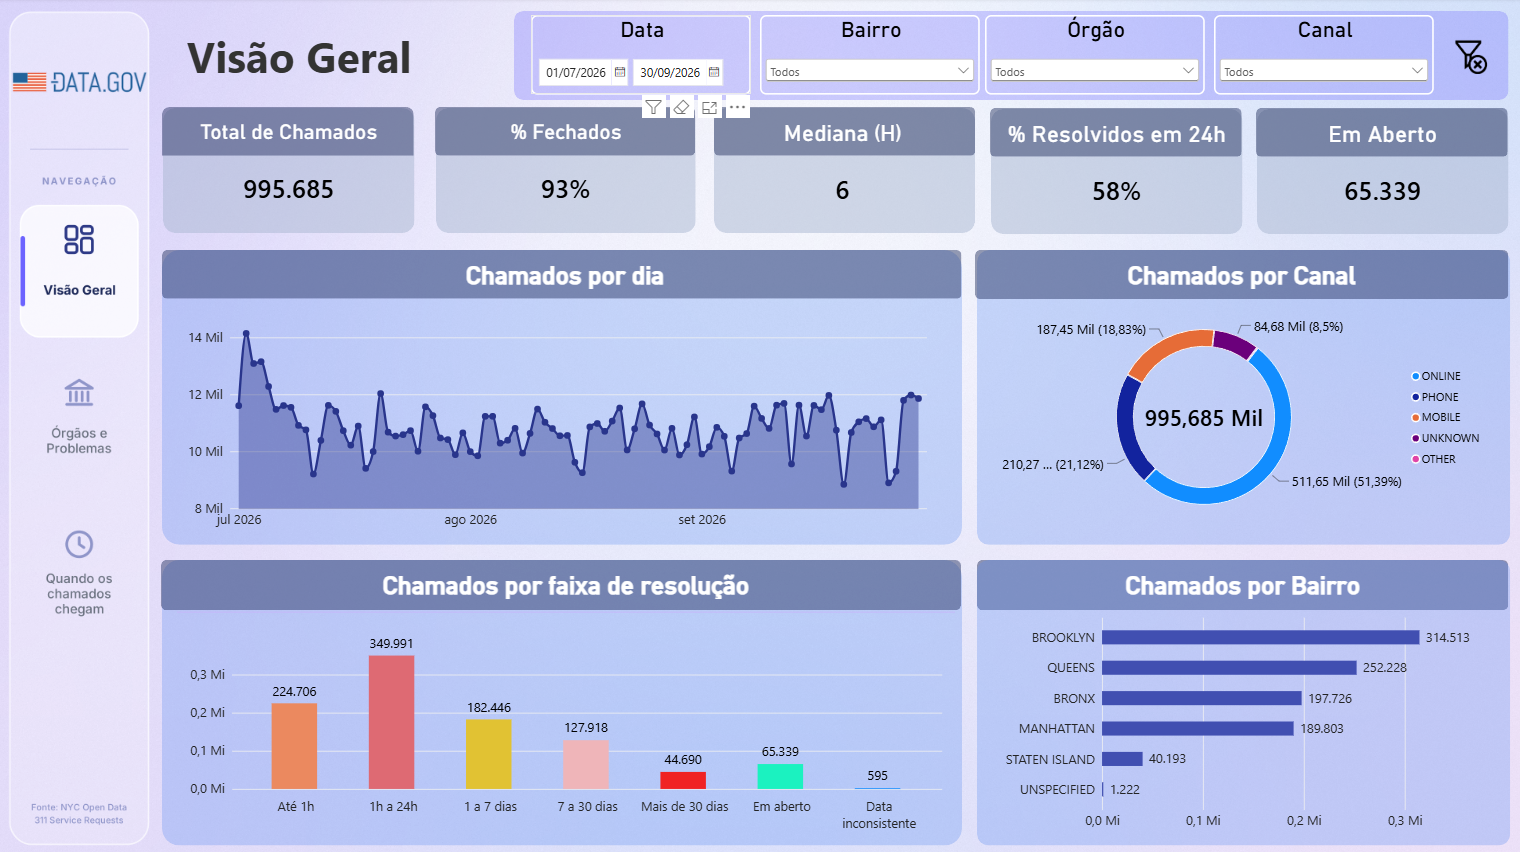

The dashboard page shown, as its layout file describes it:
{"tool":"powerbi","page":{"name":"Visão Geral","canvas":[1920,1080],"ordinal":0},"visuals":[{"type":"image","box":[0,0,1920,1079.5],"z":0},{"type":"shape","box":[552.4,137.7,326.4,157],"z":0,"group":"g3"},{"type":"shape","box":[901.4,137.7,327.9,157],"z":0,"group":"g5"},{"type":"shape","box":[208.8,137.9,316,157],"z":0,"group":"g1"},{"type":"shape","box":[1249.3,139.2,316,157],"z":0,"group":"g4"},{"type":"shape","box":[1583.6,139.2,316,157],"z":0,"group":"g2"},{"type":"shape","box":[650.1,15.8,1248.9,111.6],"z":1000},{"type":"shape","box":[551.6,136.4,326.7,61.5],"z":1000,"group":"g3"},{"type":"shape","box":[901.4,136.4,328.1,61.5],"z":1000,"group":"g5"},{"type":"shape","box":[208,136.6,316.3,61.5],"z":1000,"group":"g1"},{"type":"shape","box":[1248.5,137.9,316.3,61.5],"z":1000,"group":"g4"},{"type":"shape","box":[1582.8,137.9,316.3,61.5],"z":1000,"group":"g2"},{"type":"card","title":"% Fechados","fields":{"Values":["Medidas.% Fechados"]},"box":[552.4,137.7,326.4,157.6],"z":2000,"group":"g3"},{"type":"card","title":"Mediana (H)","fields":{"Values":["Medidas.Mediana (h)"]},"box":[899.3,137.7,327.9,157.6],"z":2000,"group":"g5"},{"type":"card","title":"Total de Chamados","fields":{"Values":["Medidas.Chamados"]},"box":[208.8,137.9,316,157.6],"z":2000,"group":"g1"},{"type":"card","title":"% Resolvidos em 24h","fields":{"Values":["Medidas.% Resolvidos em 24h"]},"box":[1249.3,139.2,316,157.6],"z":2000,"group":"g4"},{"type":"card","title":"Em Aberto","fields":{"Values":["Medidas.Em Aberto"]},"box":[1583.6,139.2,316,157.6],"z":2000,"group":"g2"},{"type":"shape","box":[208.8,316.5,1004.7,370.3],"z":2000},{"type":"shape","box":[208.8,705.2,1004.7,358.5],"z":3000},{"type":"shape","box":[1231.8,316.5,669.8,370.3],"z":4000},{"type":"group","id":"g1","title":"TOTAL DE CHAMADOS:","box":[208,136.6,316.8,158.9],"z":5000},{"type":"group","id":"g2","title":"EM ABERTO","box":[1582.8,137.9,317.8,158.9],"z":6000},{"type":"group","id":"g3","title":"% FECHADOS","box":[551.6,136.4,328.2,158.9],"z":7000},{"type":"group","id":"g4","title":"% RESOLVIDOS EM 24H","box":[1248.5,137.9,317.8,158.9],"z":8000},{"type":"group","id":"g5","title":"MEDIANA (H)","box":[899.3,136.4,331.2,158.9],"z":9000},{"type":"textbox","box":[240.3,36.8,443.9,76.2],"z":10000},{"type":"shape","box":[208.3,316.3,1004.2,61.5],"z":11000},{"type":"lineChart","title":"Chamados por dia","fields":{"Category":["dCalendario.data"],"Y":["Medidas.Chamados"]},"box":[224.6,316.5,979.7,370.3],"z":12000},{"type":"shape","box":[207.5,705.2,1004.7,63],"z":13000},{"type":"columnChart","title":"Chamados por faixa de resolução","fields":{"Category":["dFaixa.faixa"],"Y":["Medidas.Chamados"]},"box":[227.2,705.2,977.1,358.5],"z":14000},{"type":"shape","box":[1231.8,705.2,667.1,63],"z":15000},{"type":"shape","box":[1229.2,316.5,669.8,61.7],"z":16000},{"type":"shape","box":[1231.8,705.2,669.8,358.5],"z":17000},{"type":"donutChart","title":"Chamados por Canal","fields":{"Category":["fChamados.canal"],"Y":["CountNonNull(fChamados.canal)"]},"box":[1241,316.5,647.4,370.3],"z":18000},{"type":"barChart","title":"Chamados por Bairro","fields":{"Category":["fChamados.borough"],"Y":["Medidas.Chamados"]},"box":[1242.4,705.2,647.4,358.5],"z":19000},{"type":"slicer","title":"Data","fields":{"Values":["dCalendario.data"]},"box":[672.4,21,275.8,100],"z":20000},{"type":"slicer","title":"Bairro","fields":{"Values":["fChamados.borough"]},"box":[960,21,275.8,100],"z":21000},{"type":"slicer","title":"Órgão","fields":{"Values":["dOrgao.sigla"]},"box":[1242.4,21,275.8,100],"z":22000},{"type":"slicer","title":"Canal","fields":{"Values":["fChamados.canal"]},"box":[1530,21,275.8,100],"z":23000},{"type":"image","title":"Visão Geral","box":[0,15.8,208.8,1048],"z":24000},{"type":"image","box":[1808.4,36.8,81.4,69.6],"z":25000},{"type":"image","box":[18.4,30.2,172,151],"z":26000},{"type":"shape","box":[18.4,453.1,172,172],"z":26001},{"type":"shape","box":[18.4,650.1,172,172],"z":26002}]}

Visuals, with their boxes in screenshot pixels (x1, y1, x2, y2), scaled from the page's 1920x1080 canvas onto the 1520x852 screenshot:
image: 0, 0, 1519, 851
shape: 437, 109, 696, 232
shape: 714, 109, 973, 232
shape: 165, 109, 415, 233
shape: 989, 110, 1239, 234
shape: 1254, 110, 1504, 234
shape: 515, 12, 1503, 101
shape: 437, 108, 695, 156
shape: 714, 108, 973, 156
shape: 165, 108, 415, 156
shape: 988, 109, 1239, 157
shape: 1253, 109, 1503, 157
"% Fechados" card: 437, 109, 696, 233
"Mediana (H)" card: 712, 109, 972, 233
"Total de Chamados" card: 165, 109, 415, 233
"% Resolvidos em 24h" card: 989, 110, 1239, 234
"Em Aberto" card: 1254, 110, 1504, 234
shape: 165, 250, 961, 542
shape: 165, 556, 961, 839
shape: 975, 250, 1505, 542
"TOTAL DE CHAMADOS:" group: 165, 108, 415, 233
"EM ABERTO" group: 1253, 109, 1505, 234
"% FECHADOS" group: 437, 108, 697, 233
"% RESOLVIDOS EM 24H" group: 988, 109, 1240, 234
"MEDIANA (H)" group: 712, 108, 974, 233
textbox: 190, 29, 542, 89
shape: 165, 250, 960, 298
"Chamados por dia" lineChart: 178, 250, 953, 542
shape: 164, 556, 960, 606
"Chamados por faixa de resolução" columnChart: 180, 556, 953, 839
shape: 975, 556, 1503, 606
shape: 973, 250, 1503, 298
shape: 975, 556, 1505, 839
"Chamados por Canal" donutChart: 982, 250, 1495, 542
"Chamados por Bairro" barChart: 984, 556, 1496, 839
"Data" slicer: 532, 17, 751, 95
"Bairro" slicer: 760, 17, 978, 95
"Órgão" slicer: 984, 17, 1202, 95
"Canal" slicer: 1211, 17, 1430, 95
"Visão Geral" image: 0, 12, 165, 839
image: 1432, 29, 1496, 84
image: 15, 24, 151, 143
shape: 15, 357, 151, 493
shape: 15, 513, 151, 649
